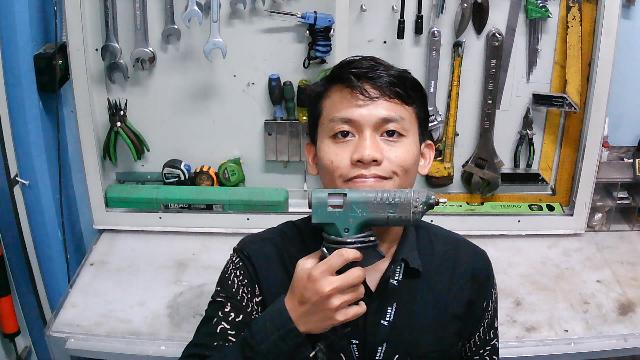gun_lem: (303, 186, 449, 279)
